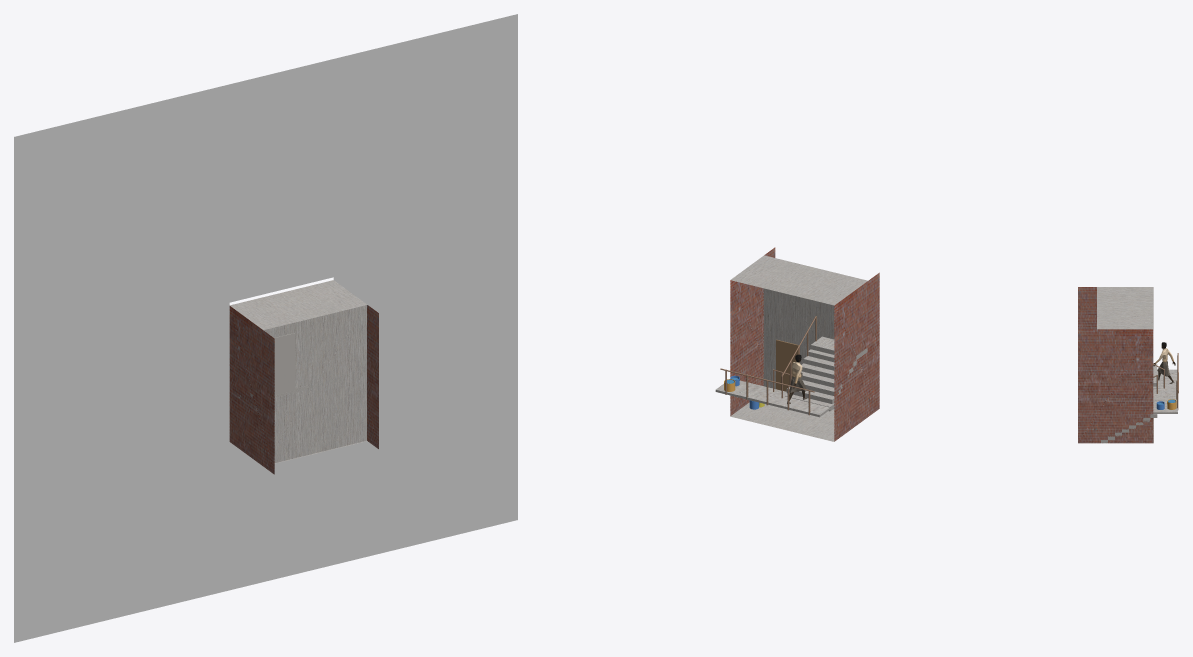
The picture shows the model from 3 angles, left to right: view 1: azimuth 30°, elevation 25°; view 2: azimuth 150°, elevation 25°; view 3: azimuth 270°, elevation 25°; orthographic projection. The views are drawn at different scales.
Parts seen in each view (by area): view 1: Occluder_Box2, Wall_Back, Wall_Left, Ceiling, Wall_Right, Door_Frame; view 2: Wall_Left, Wall_Back, Wall_Right, Ceiling, Floor_Ground, Landing, Door_Panel.001; view 3: Wall_Right, Ceiling, Wall_Left, Landing, Object_7_baked.
Boxes of the visible parts, x1,y1,x2,y2 form: Occluder_Box2: (14,14,517,642); Wall_Back: (264,305,366,462); Wall_Left: (229,306,274,474); Ceiling: (230,280,367,330); Wall_Right: (367,305,378,448); Door_Frame: (274,333,295,394); Wall_Left: (834,272,879,441); Wall_Back: (763,288,834,388); Wall_Right: (730,247,775,415); Ceiling: (730,255,867,305); Floor_Ground: (730,402,834,441); Landing: (715,380,834,417); Door_Panel.001: (776,339,798,391); Wall_Right: (1078,329,1153,443); Ceiling: (1097,287,1153,329); Wall_Left: (1078,287,1096,329); Landing: (1152,369,1177,413); Object_7_baked: (1155,348,1174,383).
Size of the model in its own units: 19.34 by 18.57 by 4.01.
16 materials, 4 textured.
